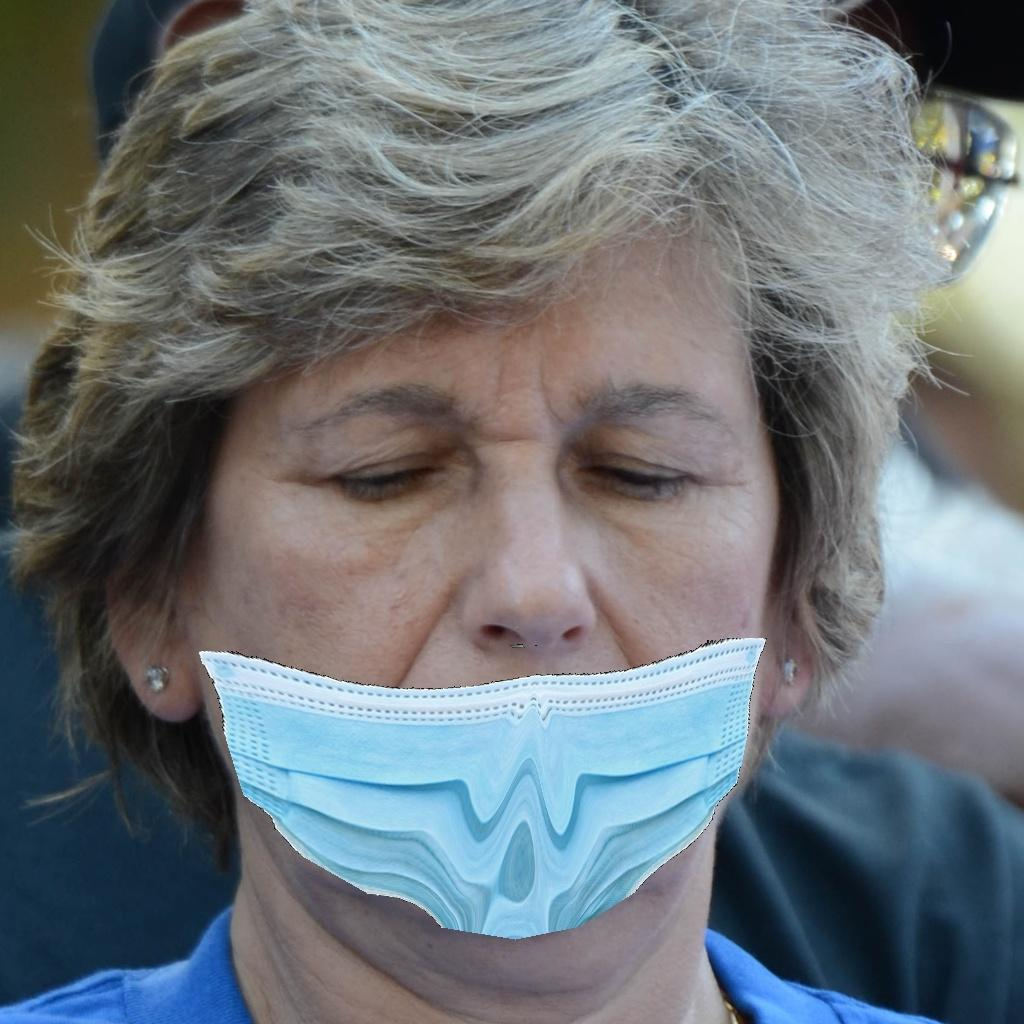Máscara Incorreta: (158, 318, 784, 915)
